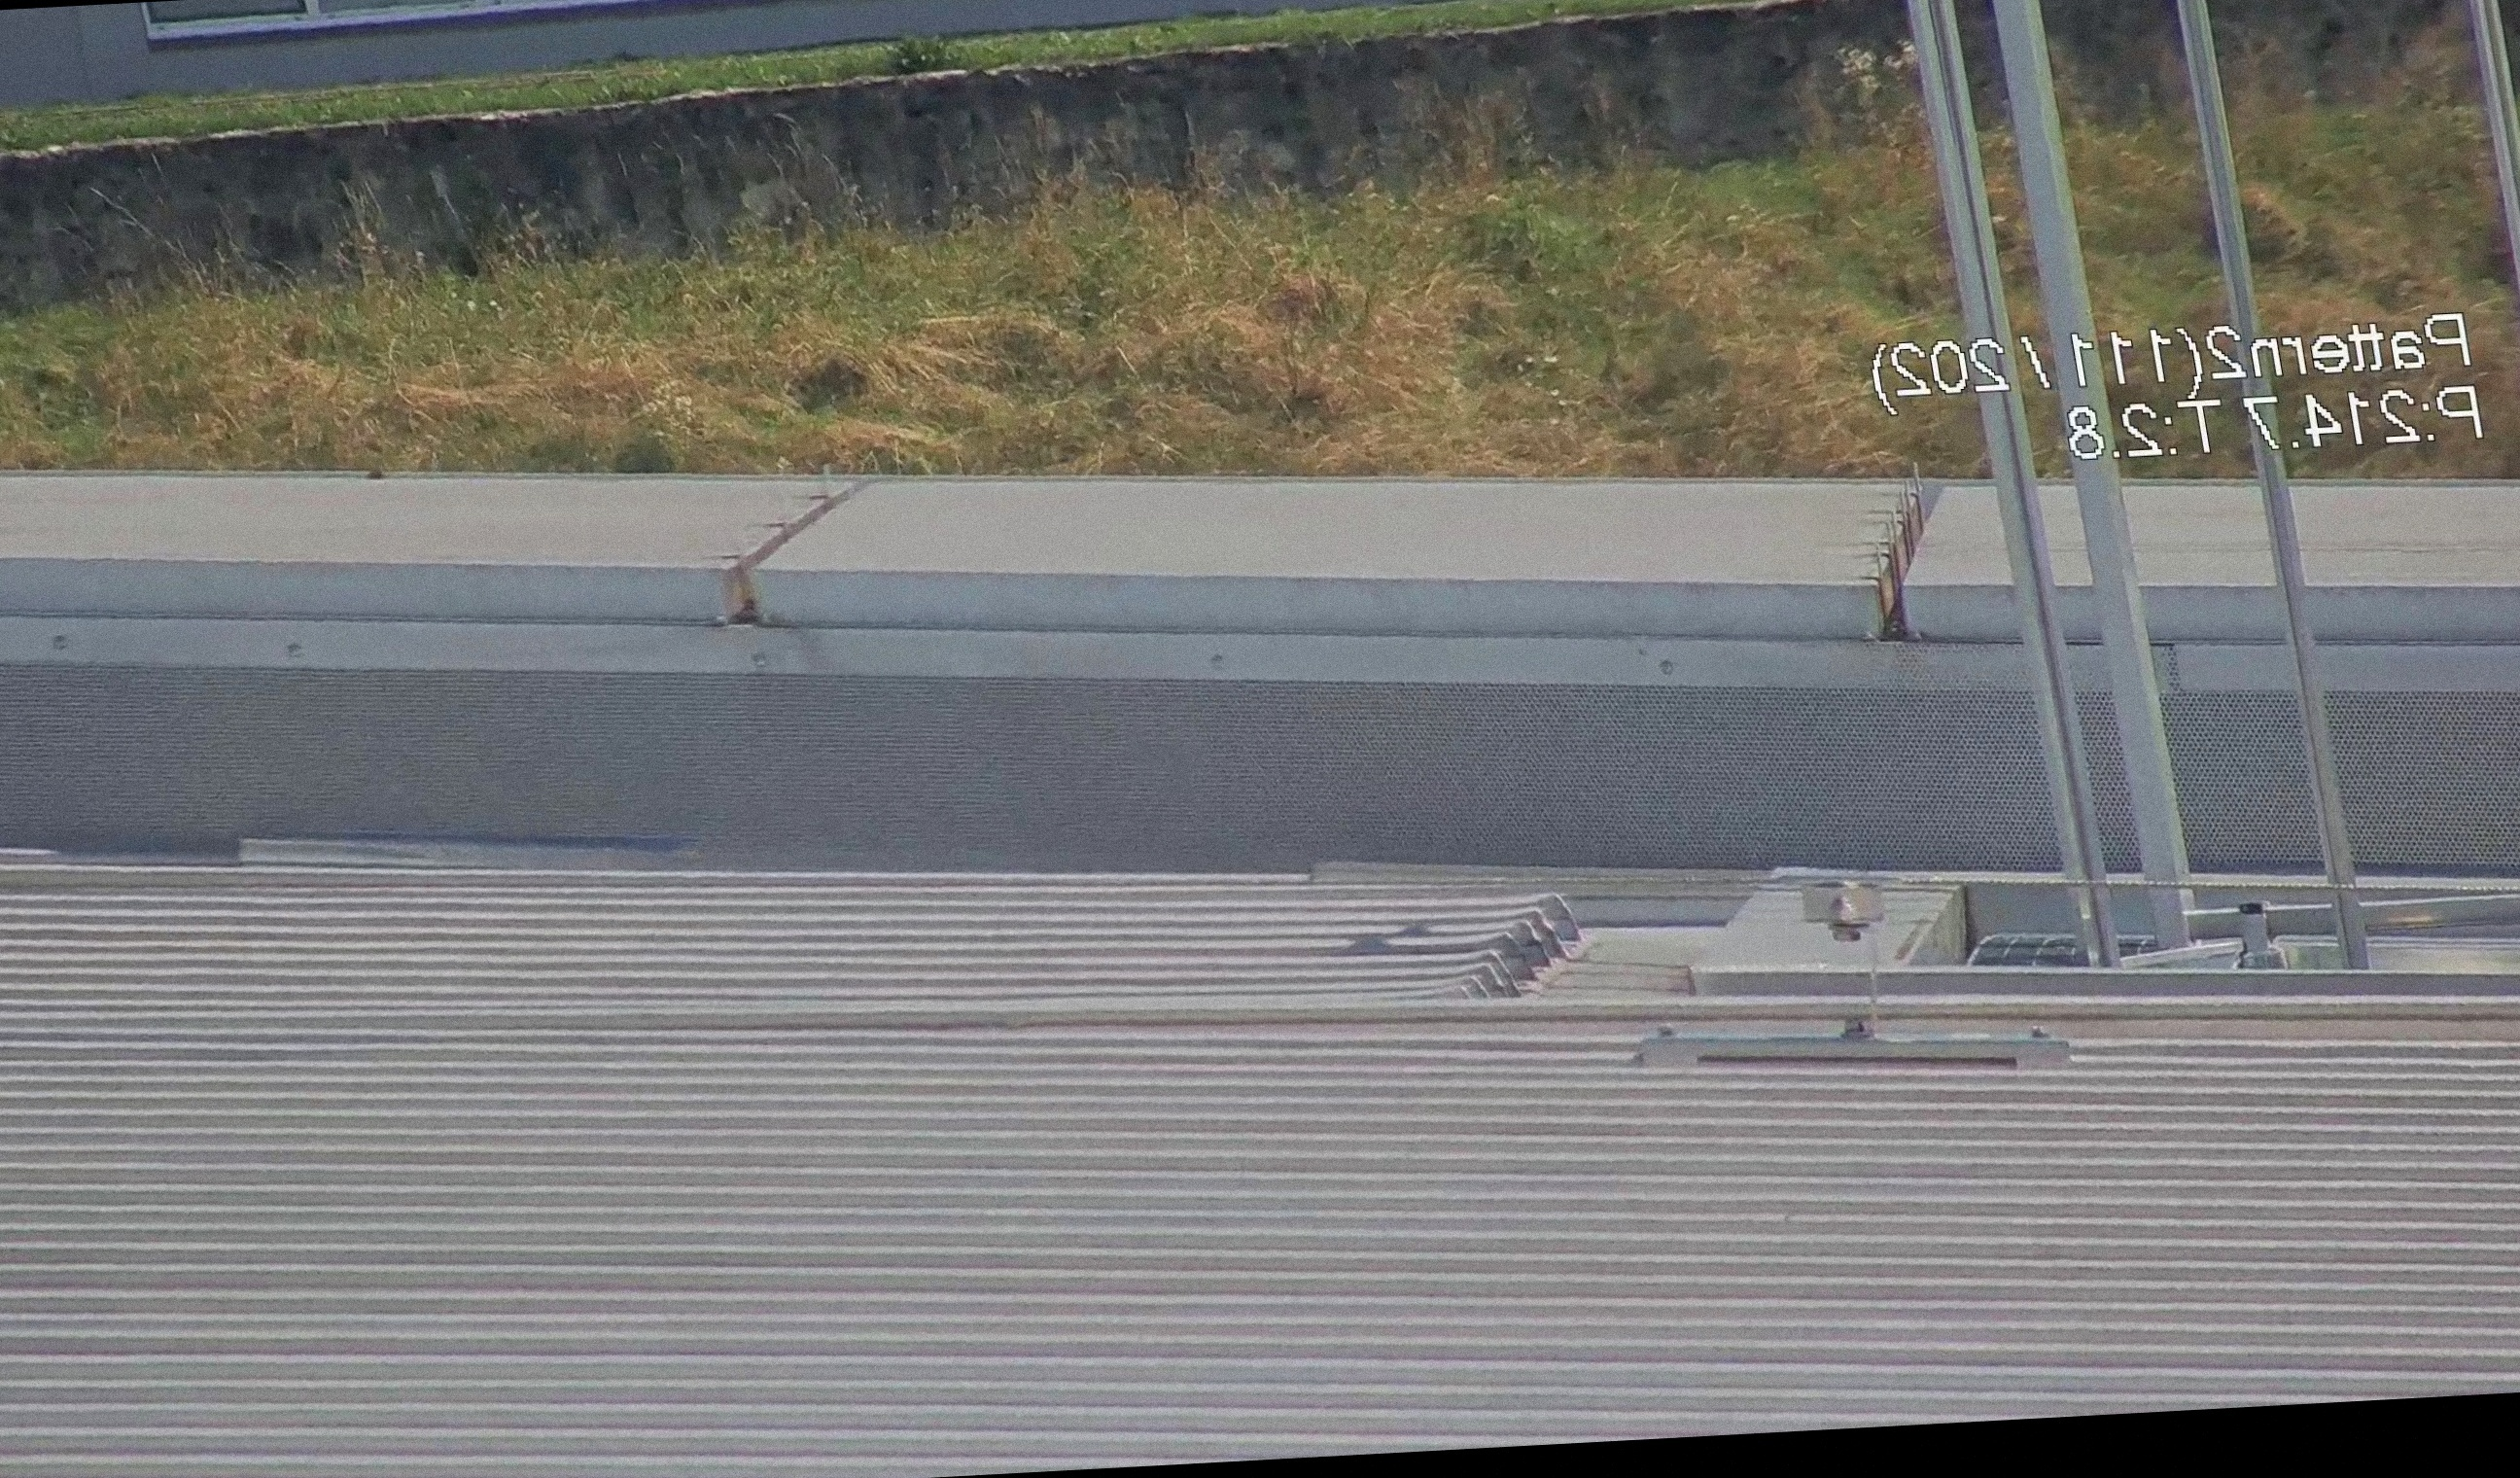Other: (1438, 883, 1599, 1021)
